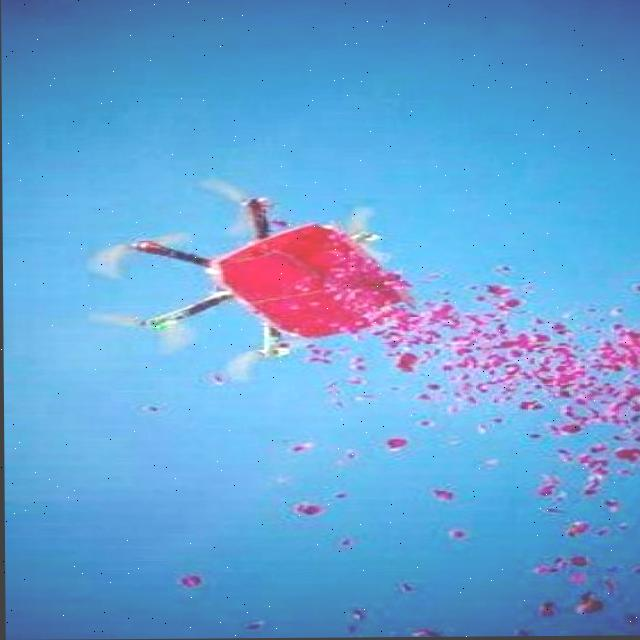drone: (130, 173, 405, 374)
